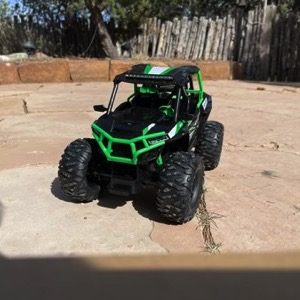polaris: (58, 64, 225, 230)
